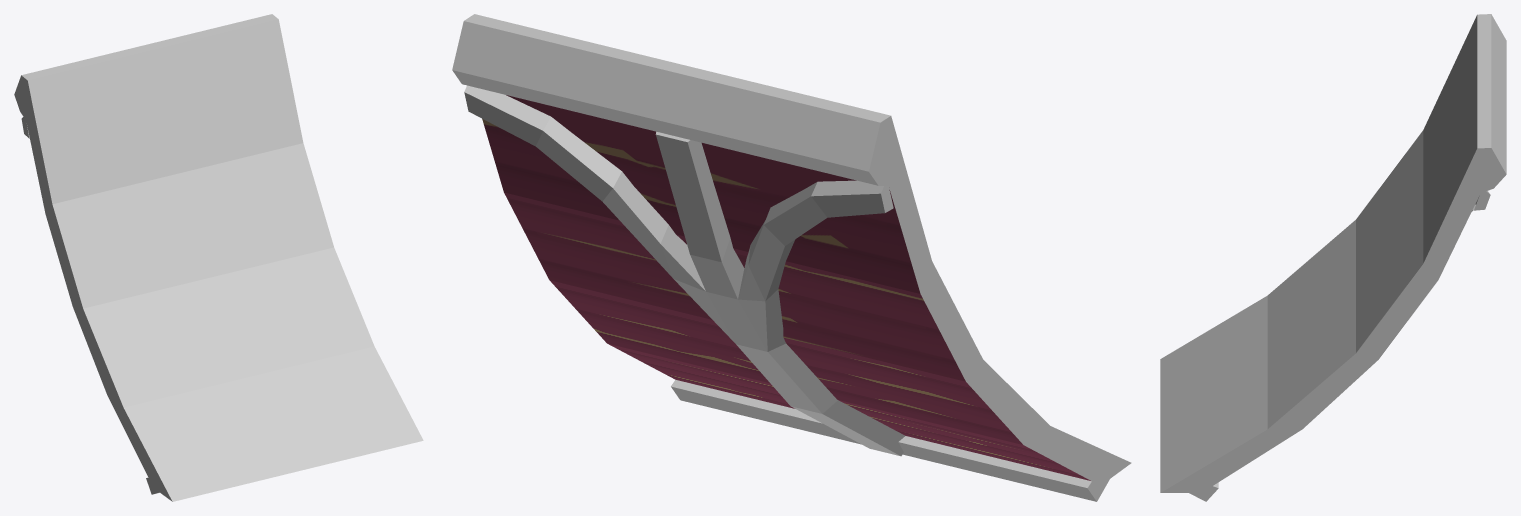
The model's file is SM_Bld_Roof_Concave_01.fbx.
3 views of the same model, side by side, from view 1: azimuth 30°, elevation 25°; view 2: azimuth 150°, elevation 25°; view 3: azimuth 270°, elevation 25° (orthographic). The views are drawn at different scales.
Visible parts, largest first — view 1: SM_Bld_Roof_Concave_01; view 2: SM_Bld_Roof_Concave_01; view 3: SM_Bld_Roof_Concave_01.
Part boxes in pixels (<box>): SM_Bld_Roof_Concave_01: <box>14,14,423,501</box>; SM_Bld_Roof_Concave_01: <box>452,14,1131,501</box>; SM_Bld_Roof_Concave_01: <box>1160,14,1506,501</box>.
Size of the model in its own units: 250 by 308 by 273.
